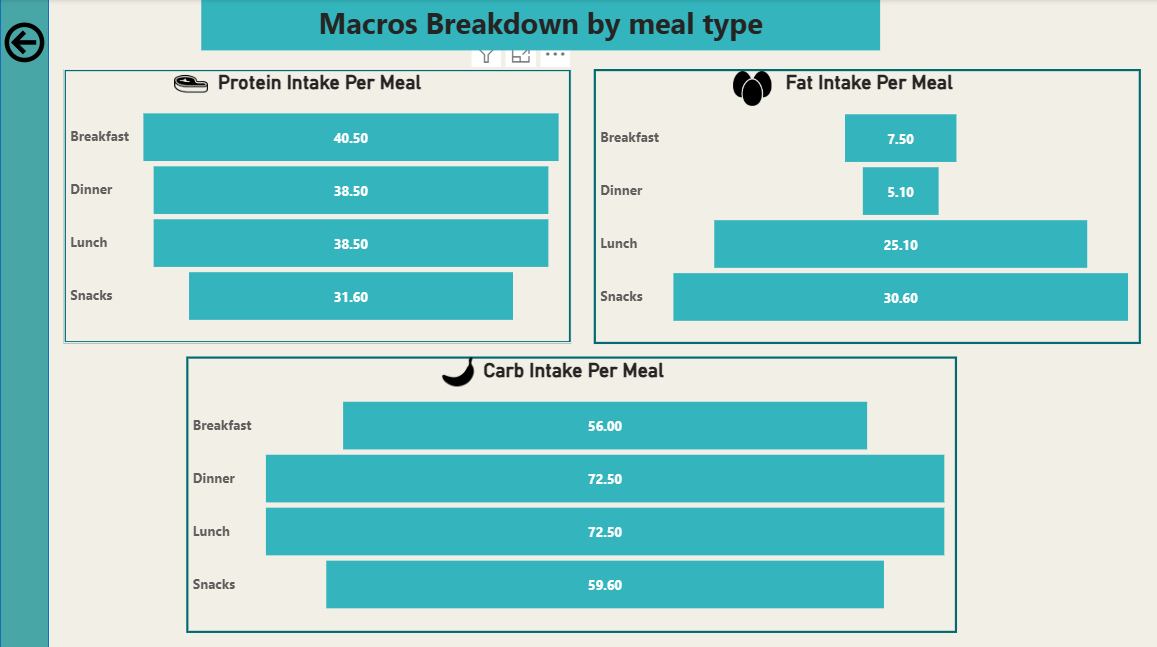

What the dashboard file says about the page in this screenshot:
{"tool":"powerbi","page":{"name":"Macros_Breakdown","canvas":[1280,720],"ordinal":2},"visuals":[{"type":"funnel","title":"Protein Intake Per Meal","fields":{"Y":["All_measure.Breakfast_Protein","All_measure.Dinner_Protein","All_measure.Lunch_Protein","All_measure.Snacks_Protein"]},"box":[70.5,77.1,560.9,303.4],"z":0},{"type":"funnel","title":"Carb Intake Per Meal","fields":{"Y":["All_measure.Breakfast_Carb","All_measure.Dinner_Carb","All_measure.Lunch_Carb","All_measure.Snacks_Carb"]},"box":[206.3,394.5,851.7,305.2],"z":1000},{"type":"funnel","title":"Fat Intake Per Meal","fields":{"Y":["All_measure.Breakfast_Fat","All_measure.Dinner_fats","All_measure.Lunch_Fat","All_measure.Snacks_Fats"]},"box":[656.3,77.2,604.4,304],"z":2000},{"type":"textbox","box":[222,0,750.4,56.7],"z":6000},{"type":"shape","box":[0,0,54.1,720],"z":7000},{"type":"actionButton","box":[0,19.7,54.1,57.4],"z":8000},{"type":"image","box":[432.5,370.3,147.8,84.3],"z":9000},{"type":"image","box":[805.5,67.7,52.5,62.2],"z":10000},{"type":"image","box":[157.5,67.7,107.8,52.5],"z":11000}]}

Visuals, with their boxes on the page's 1280x720 design canvas (x1, y1, x2, y2). These are canvas units, not pixel positions in the 1157x647 screenshot, which may show the page scaled, cropped or inside an application window:
"Protein Intake Per Meal" funnel: 70/77/631/380
"Carb Intake Per Meal" funnel: 206/394/1058/700
"Fat Intake Per Meal" funnel: 656/77/1261/381
textbox: 222/0/972/57
shape: 0/0/54/720
actionButton: 0/20/54/77
image: 432/370/580/455
image: 806/68/858/130
image: 158/68/265/120
